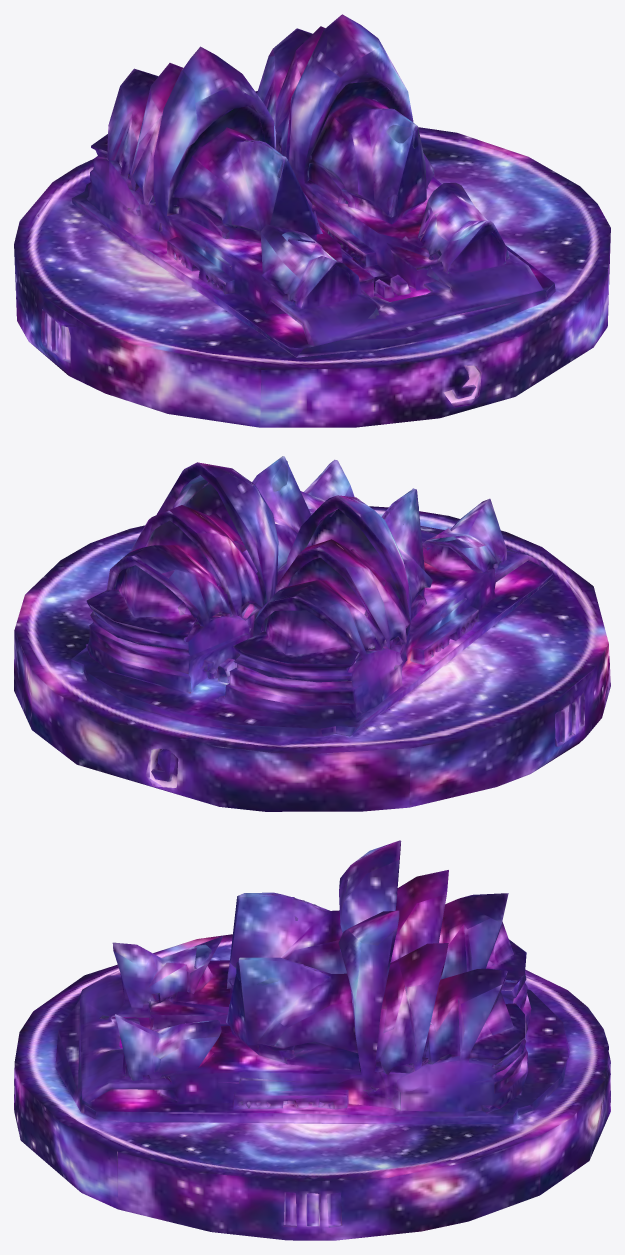
The model's file is sydney_opera_celestial.glb.
3 views of the same model, one above another, from view 1: azimuth 30°, elevation 25°; view 2: azimuth 150°, elevation 25°; view 3: azimuth 270°, elevation 25° (orthographic).
Visible parts, largest first — view 1: Mesh_0; view 2: Mesh_0; view 3: Mesh_0.
Part boxes in pixels (x1,y1,x2,y2): Mesh_0: [14, 14, 610, 427]; Mesh_0: [14, 456, 610, 811]; Mesh_0: [14, 840, 610, 1240].
Bounding box in the file's own units: 1.91 × 0.8566 × 1.91.
1 material, 1 textured.
